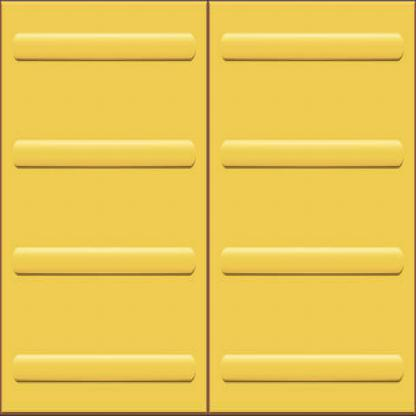podotacti: (2, 4, 412, 410)
